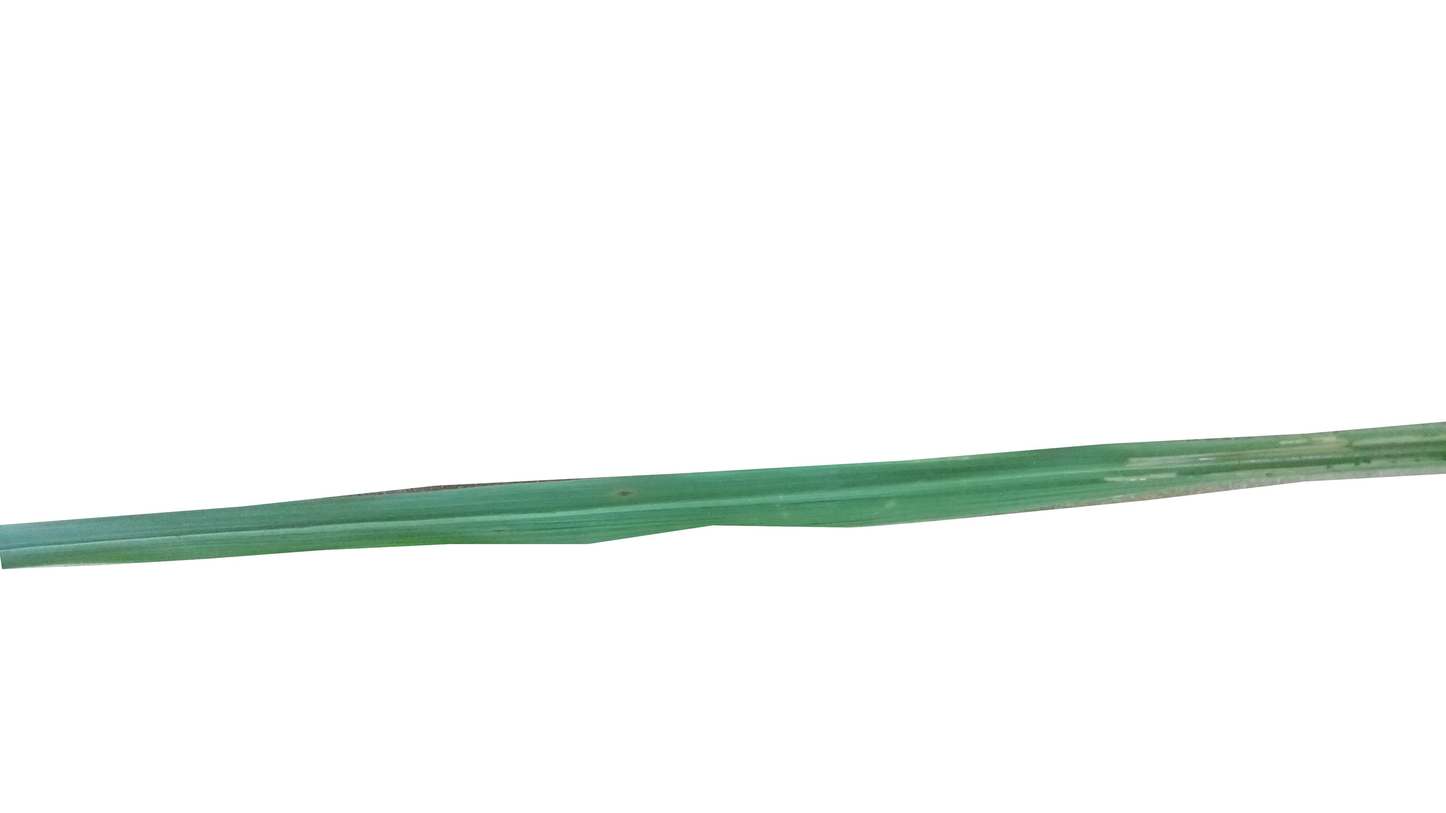Blight: (1126, 453, 1209, 471), (1280, 440, 1338, 462)
Brown spot: (617, 486, 639, 505)
